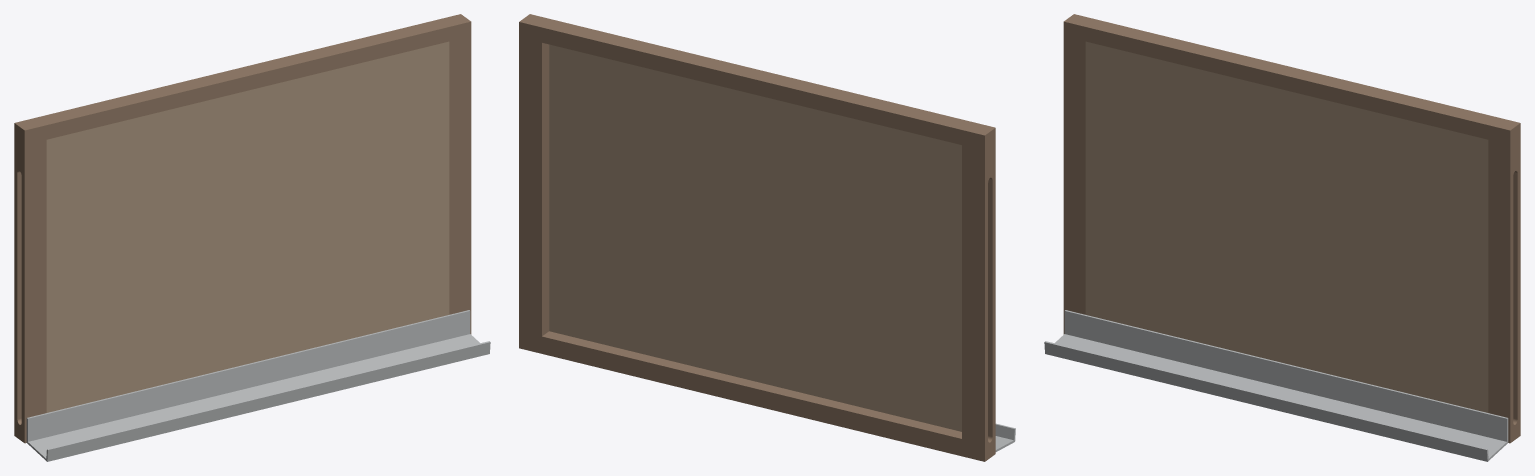
Rendered from door-leaf.glb.
3 views of the same model, side by side, from view 1: azimuth 30°, elevation 25°; view 2: azimuth 150°, elevation 25°; view 3: azimuth 330°, elevation 25° (orthographic). The views are drawn at different scales.
Parts seen in each view (by area): view 1: Plywood-infill-6, Display-ledge, Top-rail, Stile-L, Stile-R; view 2: Plywood-infill-6, Stile-L, Top-rail, Bottom-rail, Stile-R; view 3: Plywood-infill-6, Display-ledge, Top-rail, Stile-R, Stile-L.
Boxes of the visible parts, x1,y1,x2,y2 form: Plywood-infill-6: [46, 41, 449, 412]; Display-ledge: [26, 310, 490, 461]; Top-rail: [36, 19, 449, 139]; Stile-L: [14, 117, 46, 443]; Stile-R: [439, 14, 471, 334]; Plywood-infill-6: [549, 44, 961, 431]; Stile-L: [962, 122, 995, 461]; Top-rail: [542, 19, 972, 144]; Bottom-rail: [542, 331, 961, 456]; Stile-R: [519, 14, 552, 353]; Plywood-infill-6: [1085, 41, 1488, 412]; Display-ledge: [1044, 310, 1508, 461]; Top-rail: [1085, 19, 1498, 139]; Stile-R: [1488, 117, 1520, 443]; Stile-L: [1063, 14, 1095, 334].
Size of the model in its own units: 0.448 by 0.3038 by 0.0551.
